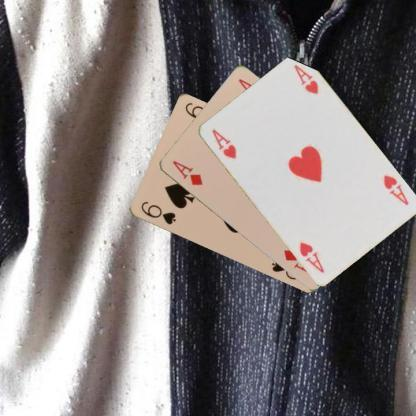6s: (138, 199, 178, 226)
Ad: (170, 158, 204, 188)
Ah: (380, 172, 410, 207), (208, 126, 238, 160)
